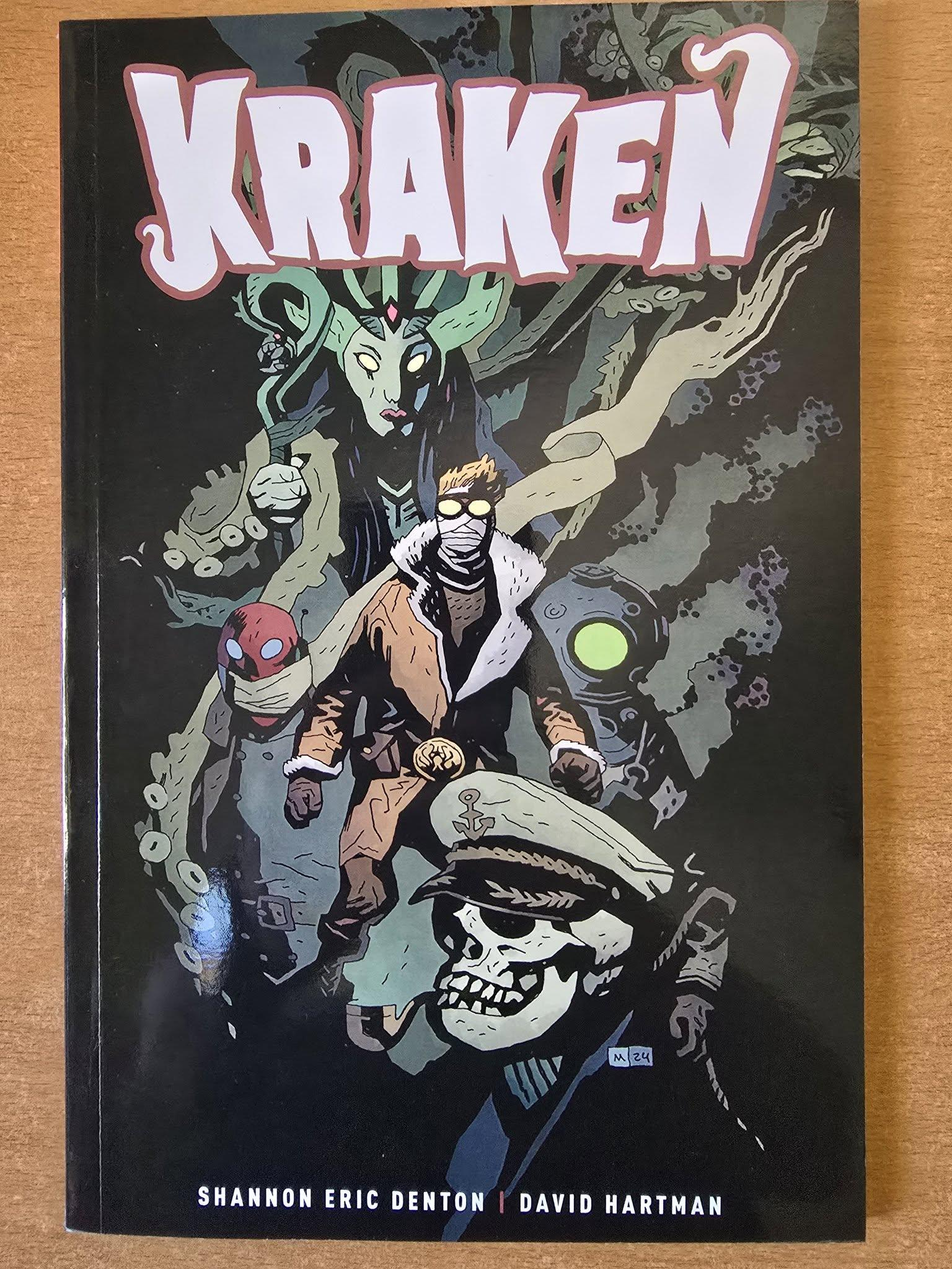comic: (60, 0, 866, 1244)
